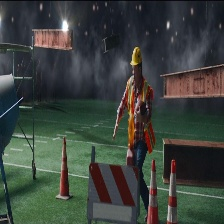helmet: (130, 47, 144, 67)
person: (124, 41, 154, 162)
vest: (127, 78, 154, 153)
